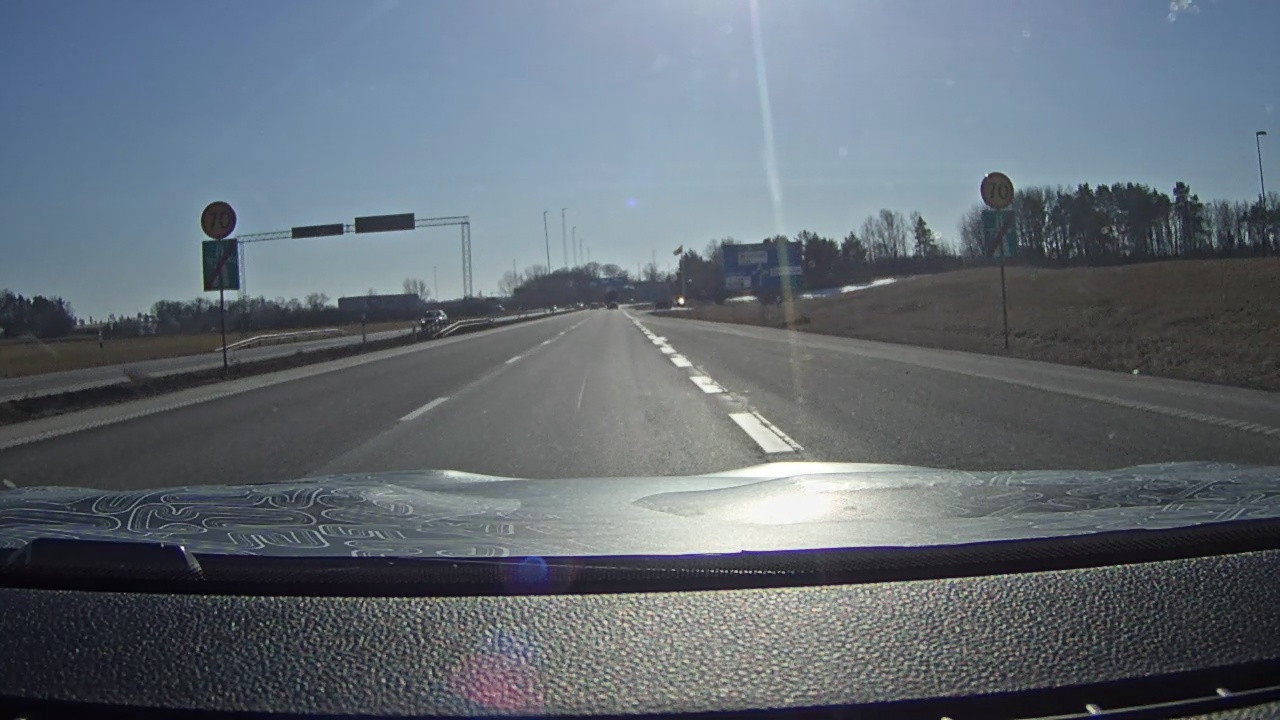Regular_End_Of_Motorway: (982, 209, 1019, 262)
